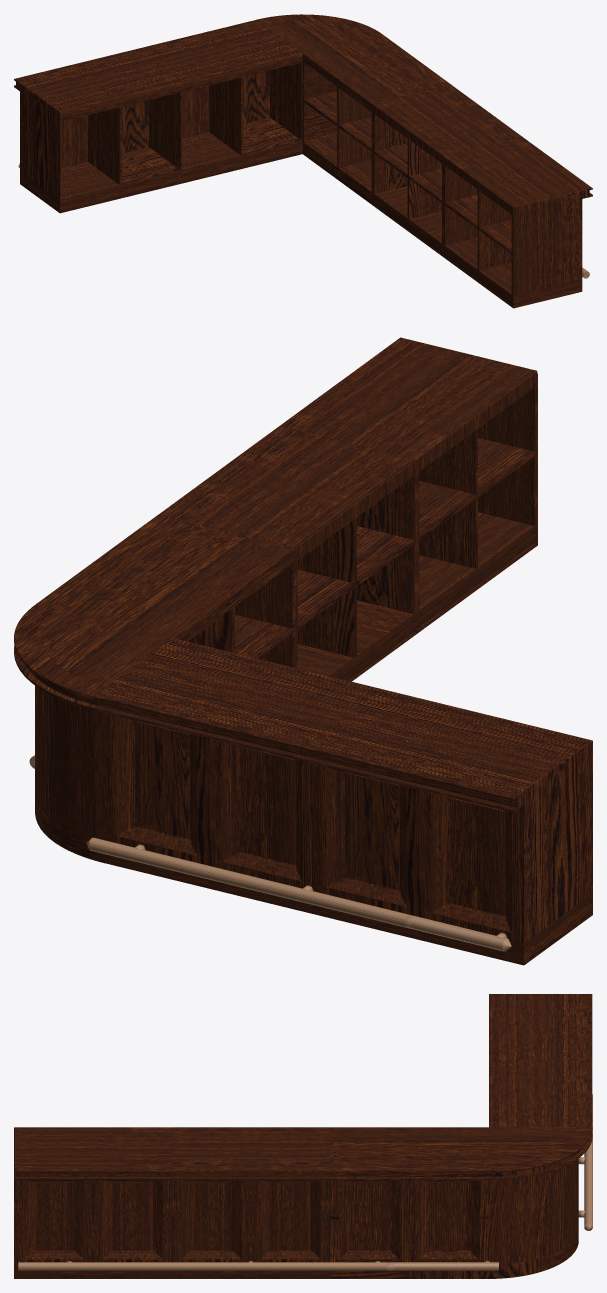
File: a_pub_counter.glb
3 renders of one model, top to bottom at view 1: azimuth 30°, elevation 25°; view 2: azimuth 150°, elevation 25°; view 3: azimuth 270°, elevation 25°, orthographic. The views are drawn at different scales.
Visible parts, largest first — view 1: Bar.010; view 2: Bar.010; view 3: Bar.010.
Part boxes in pixels (bbox=[...]): Bar.010: bbox=[14, 14, 592, 308]; Bar.010: bbox=[14, 337, 592, 965]; Bar.010: bbox=[14, 994, 592, 1278].
Size of the model in its own units: 13.39 by 4.01 by 18.49.
2 materials, 2 textured.
